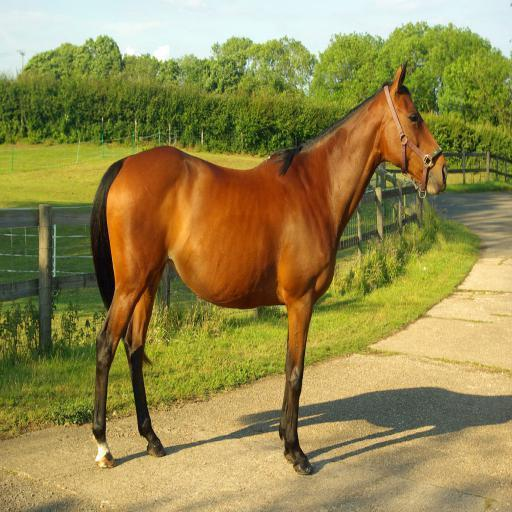horse: (92, 60, 449, 478)
